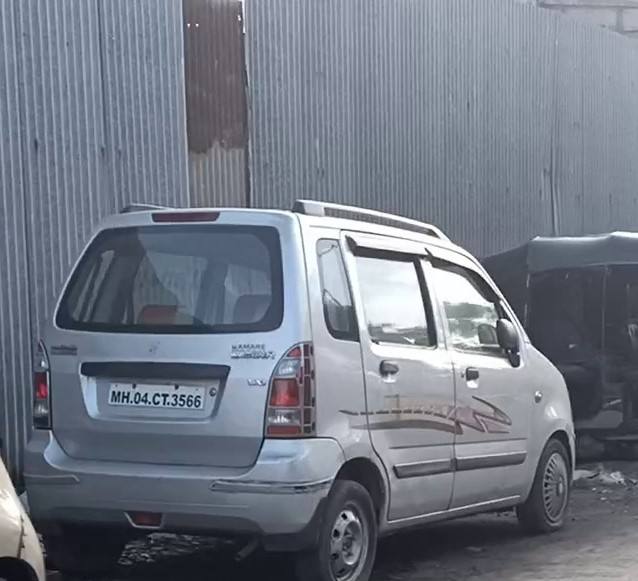MH04CT3566: (107, 381, 206, 409)
